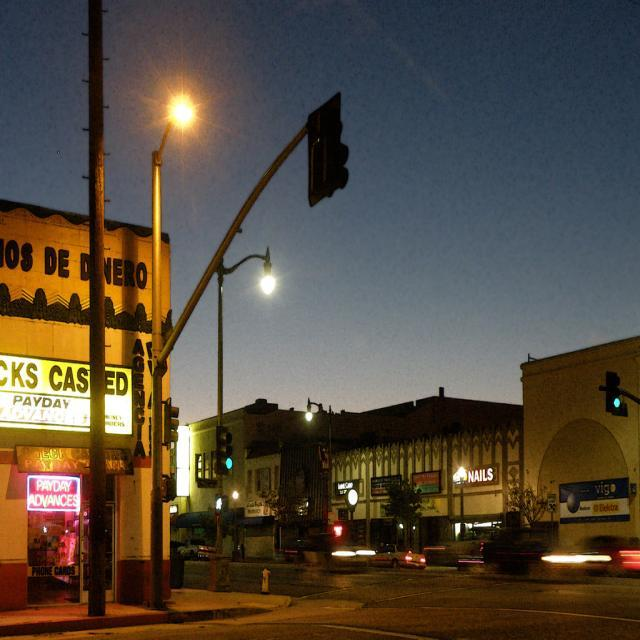traffic light: (604, 366, 628, 416)
